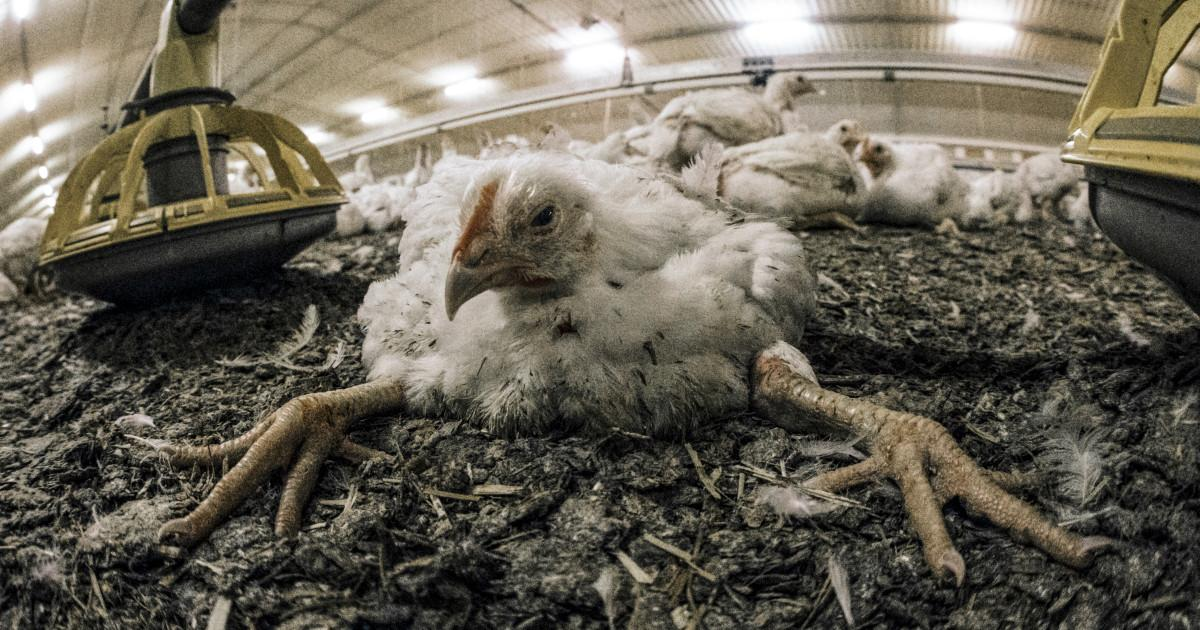AbNormal: (143, 132, 1132, 630)
